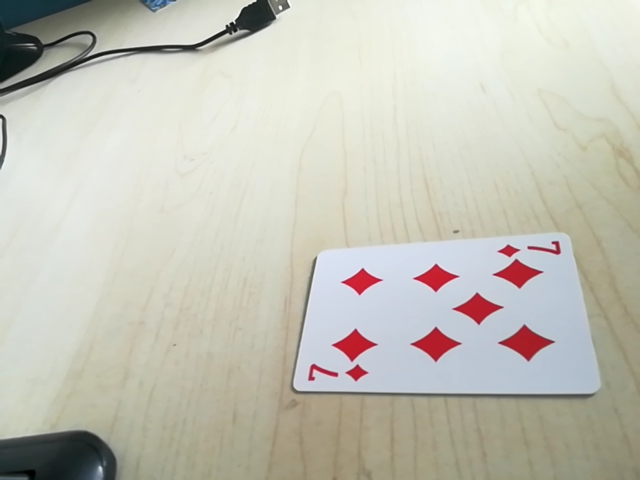fk 7: (495, 238, 567, 264), (300, 364, 369, 389)
